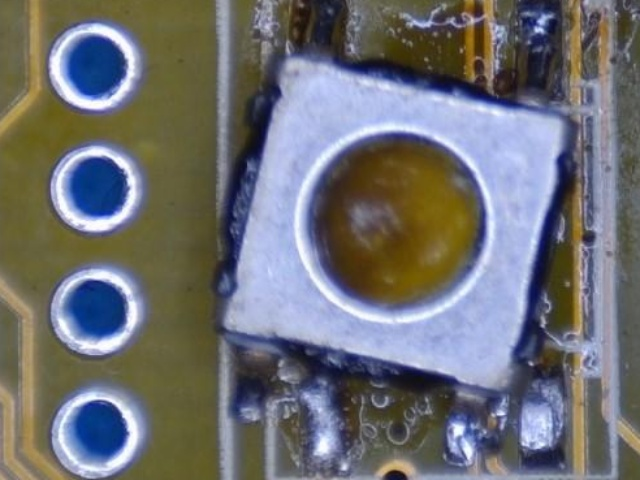pcb_defect: (214, 0, 578, 476)
